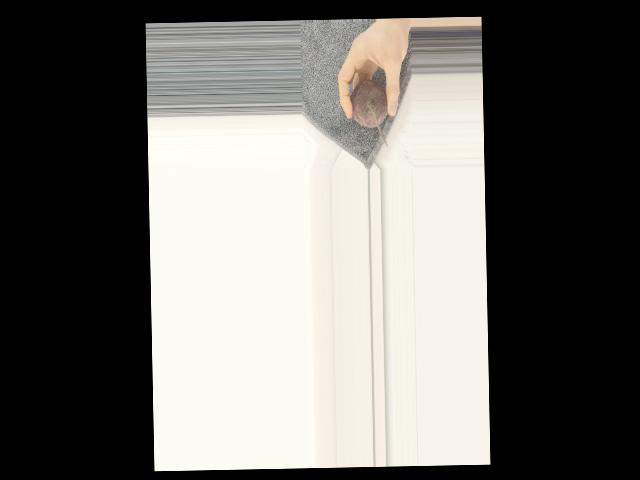beet: (350, 79, 388, 148)
